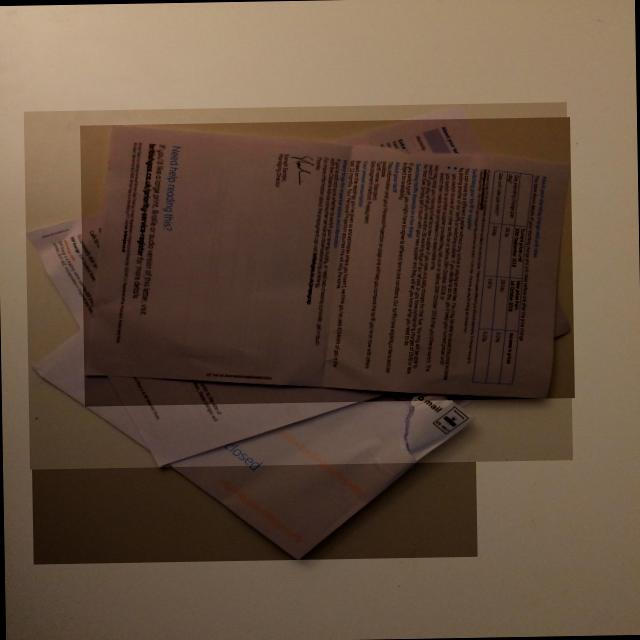Paper bag: (26, 105, 570, 467), (84, 125, 570, 398), (31, 329, 475, 559)
